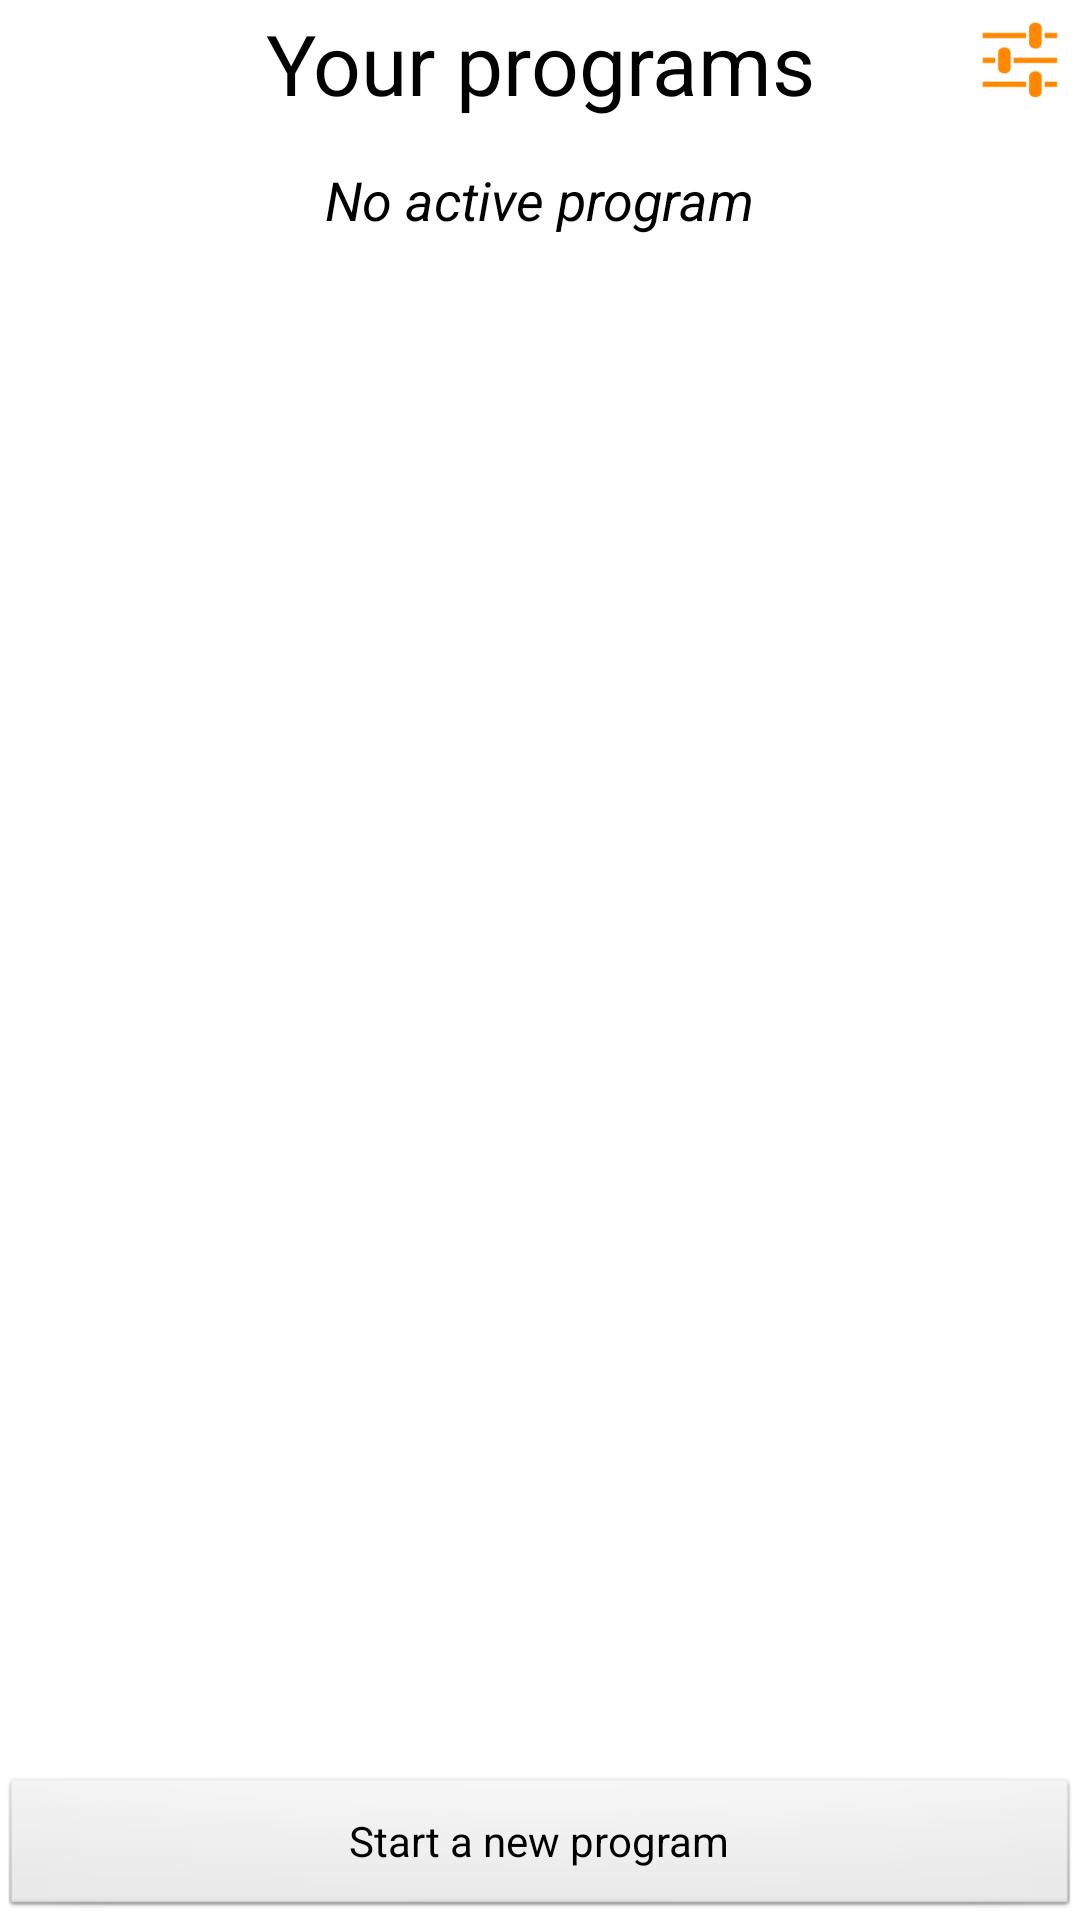

Named icons in this screenshot (1080 x 1920) and their bounding boxes, [x1, y1, x2, y2]:
Settings: [982, 22, 1058, 98]
